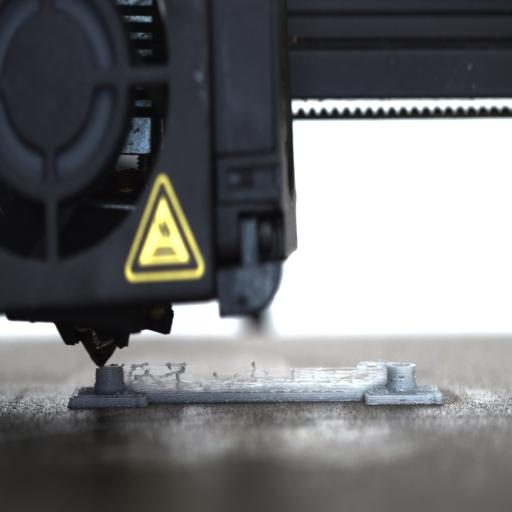stringing: (114, 360, 292, 392)
